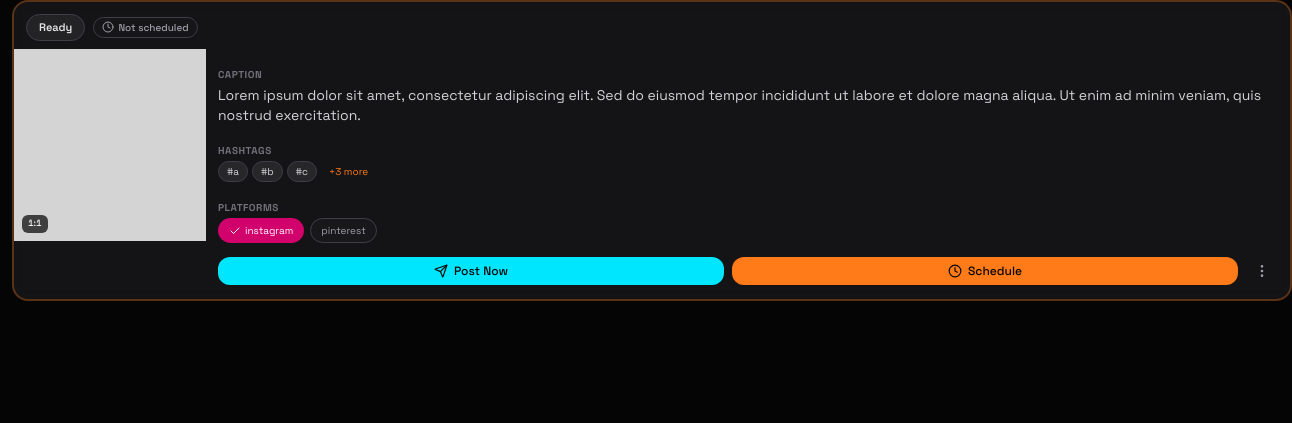
Test: V060-001 — PostReadyCard layout & interactions › kebab opens menu with Copy / Regen / Unready items
What coordinates should you click on to do the following:
click the button named "More actions"
I would click on:
 (1262, 270)
Its box is [1246, 254, 1278, 286].
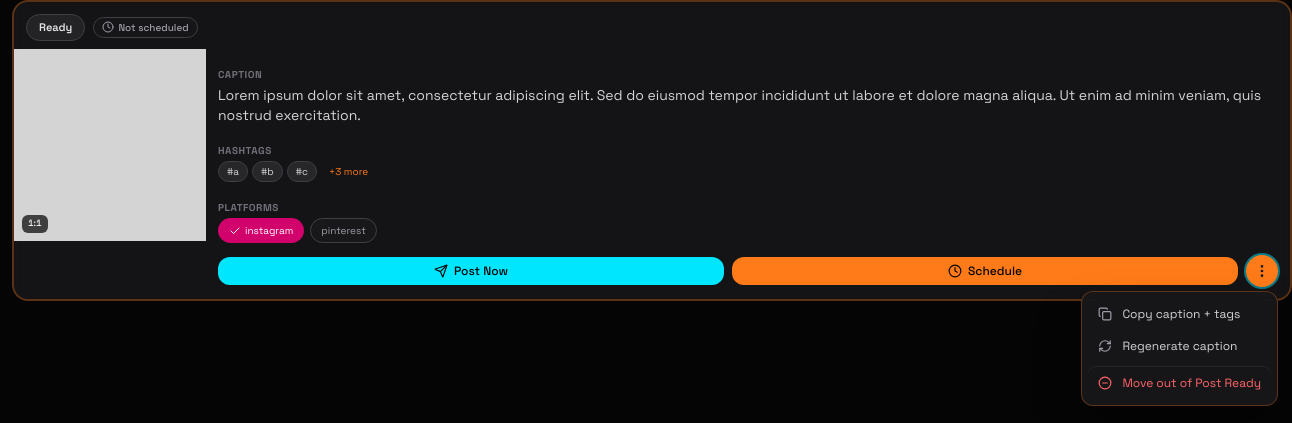
Expected: the menu item "Copy caption + tags" is shown, [1088, 298, 1271, 330]
Expected: the menu item "Regenerate caption" is shown, [1088, 330, 1271, 362]
Expected: the menu item "Move out of Post Ready" is shown, [1088, 366, 1271, 398]
